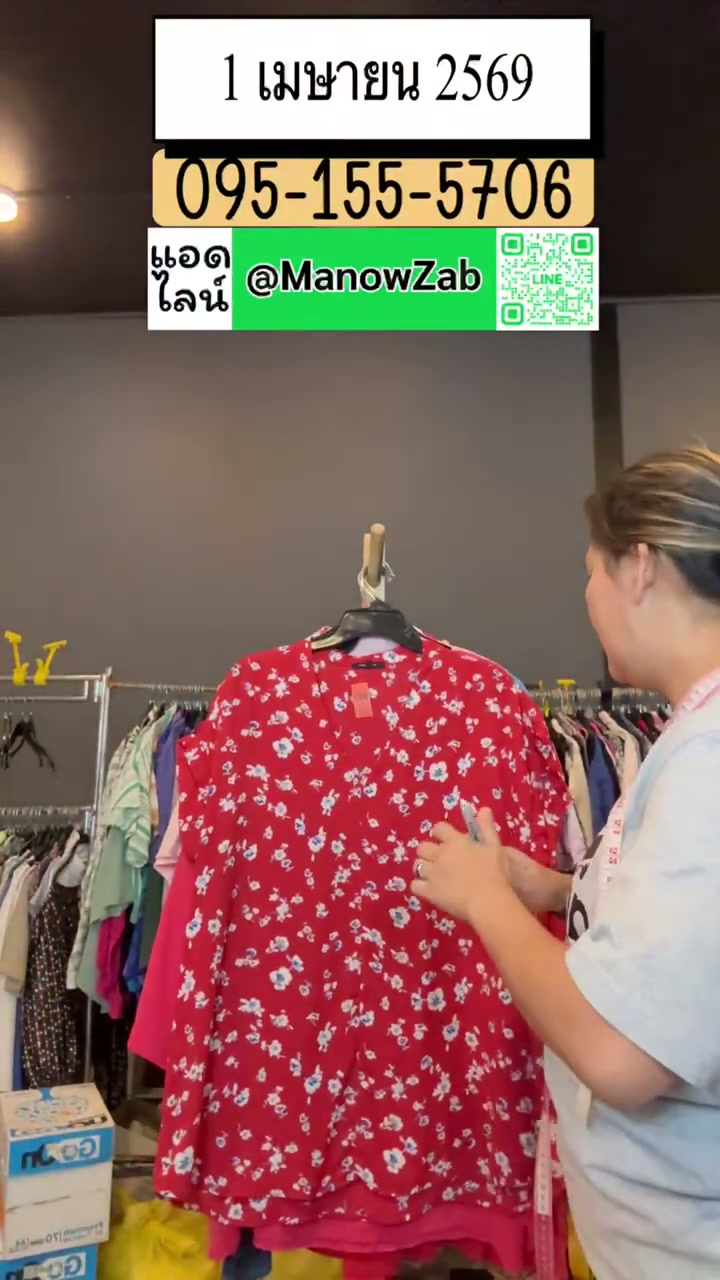display_shirt: (139, 618, 567, 1279)
